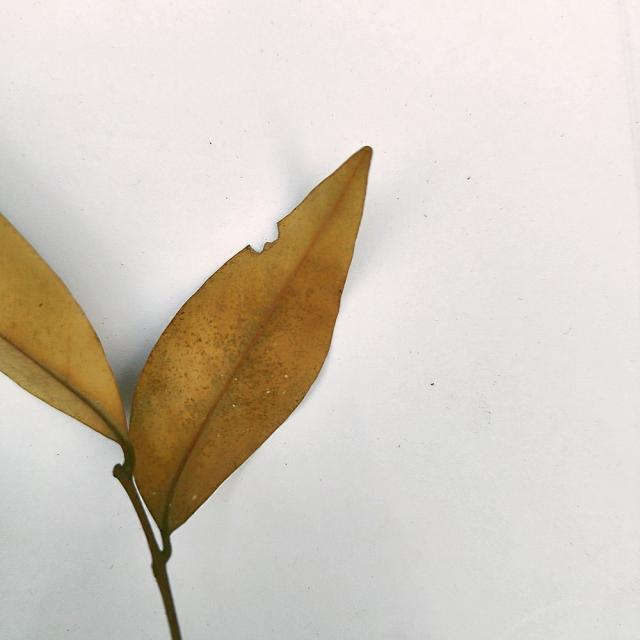Dry_Leaf-Lychee: (115, 147, 374, 639)
